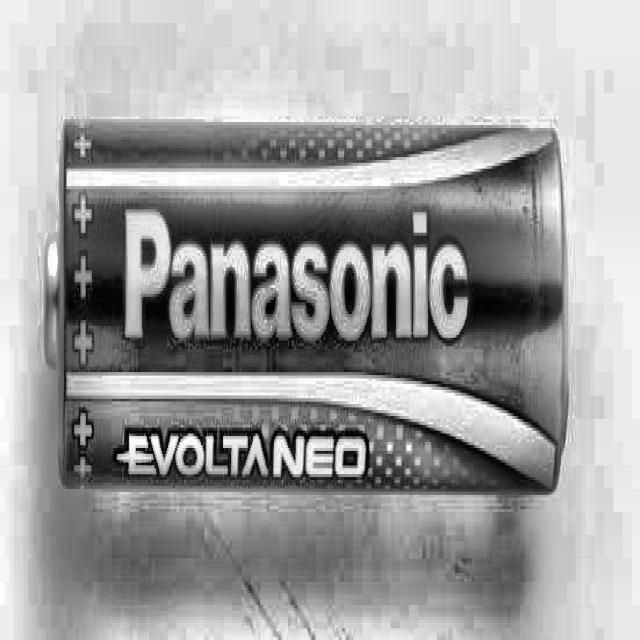drycell: (45, 119, 569, 490)
